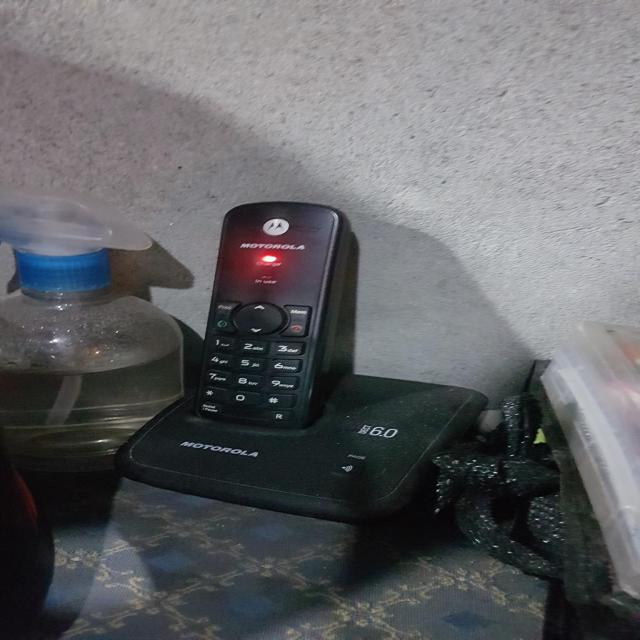Phone: (114, 190, 492, 520)
